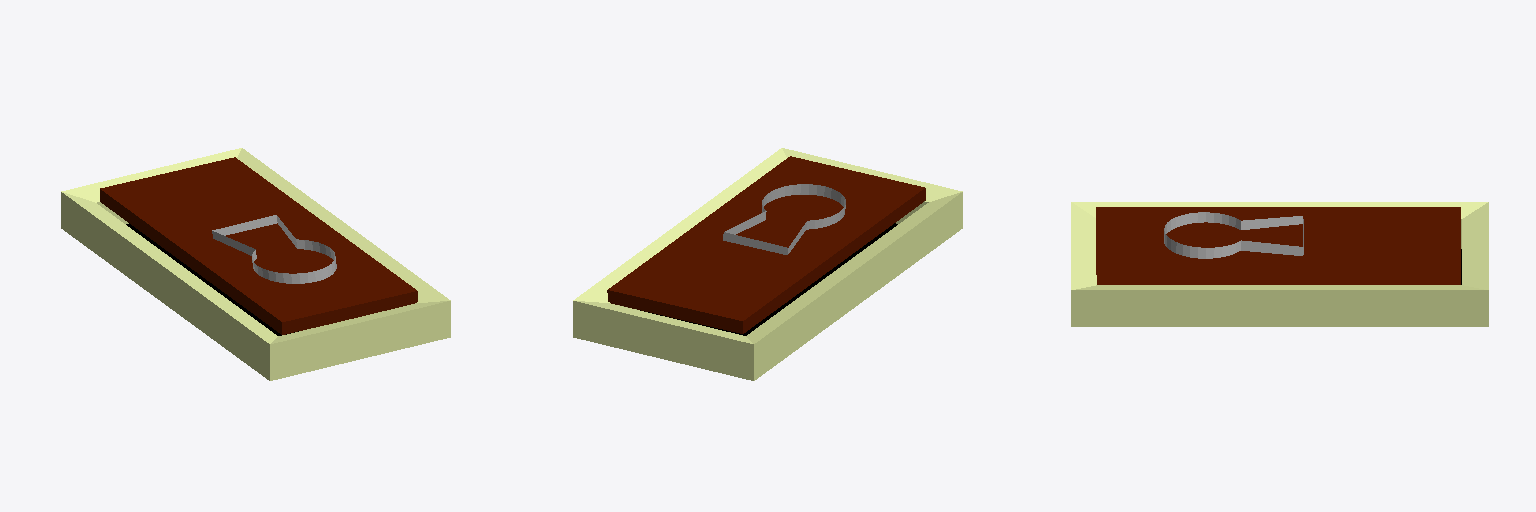
The model's file is lock_portal.obj.
3 renders of one model, left to right at view 1: azimuth 30°, elevation 25°; view 2: azimuth 150°, elevation 25°; view 3: azimuth 270°, elevation 25°, orthographic.
Visible parts, largest first — view 1: door_Plane.001, frame_Plane, Circle_Circle.001, glow_Plane.002; view 2: door_Plane.001, frame_Plane, Circle_Circle.001, glow_Plane.002; view 3: door_Plane.001, frame_Plane, Circle_Circle.001.
Boxes of the visible parts, x1=… form: door_Plane.001: x1=100, y1=157, x2=417, y2=334; frame_Plane: x1=61, y1=148, x2=450, y2=380; Circle_Circle.001: x1=212, y1=215, x2=336, y2=283; glow_Plane.002: x1=126, y1=223, x2=298, y2=335; door_Plane.001: x1=607, y1=156, x2=925, y2=333; frame_Plane: x1=573, y1=148, x2=962, y2=380; Circle_Circle.001: x1=723, y1=184, x2=845, y2=254; glow_Plane.002: x1=640, y1=223, x2=897, y2=335; door_Plane.001: x1=1096, y1=207, x2=1460, y2=284; frame_Plane: x1=1071, y1=202, x2=1488, y2=326; Circle_Circle.001: x1=1164, y1=212, x2=1303, y2=258.
Size of the model in its own units: 1.6 by 0.4569 by 3.2.